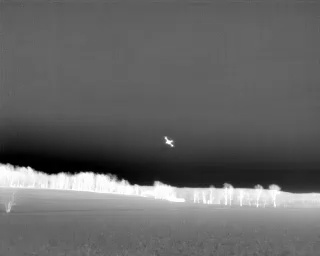DRONE: (160, 132, 177, 152)
